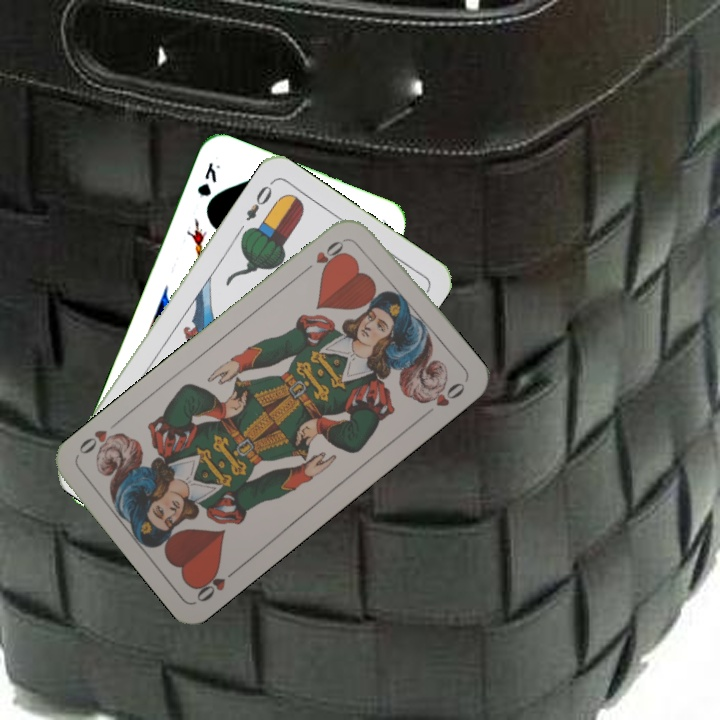EO: (242, 177, 276, 224)
GK: (193, 158, 223, 199)
HO: (190, 562, 243, 605), (299, 234, 350, 275)
